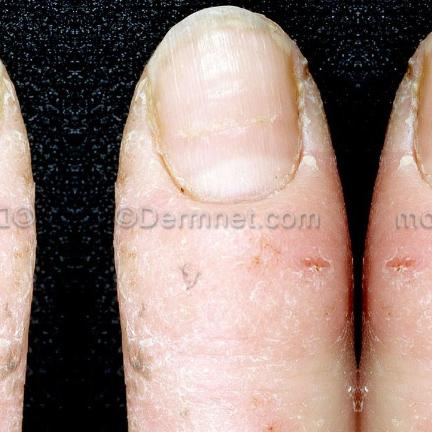Nail: (145, 6, 302, 205), (414, 33, 432, 186), (0, 63, 3, 84)
